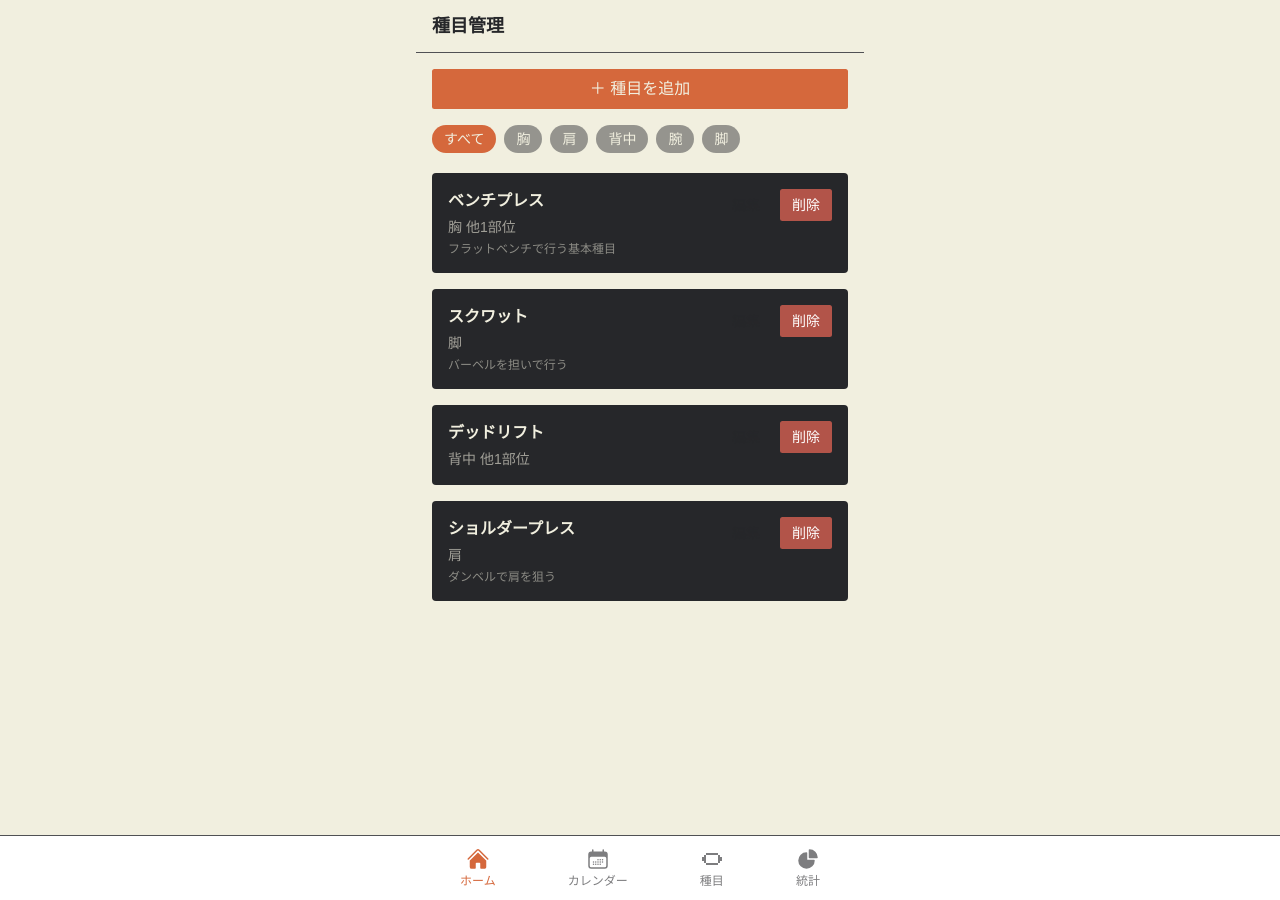
Test case: ExercisesPage › 「種目を追加」で新規フォームを開く
Expected: the text "ベンチプレス" is shown, x1=448 y1=192 x2=544 y2=209
Click the button "＋ 種目を追加": (640, 89) x1=432 y1=69 x2=848 y2=109
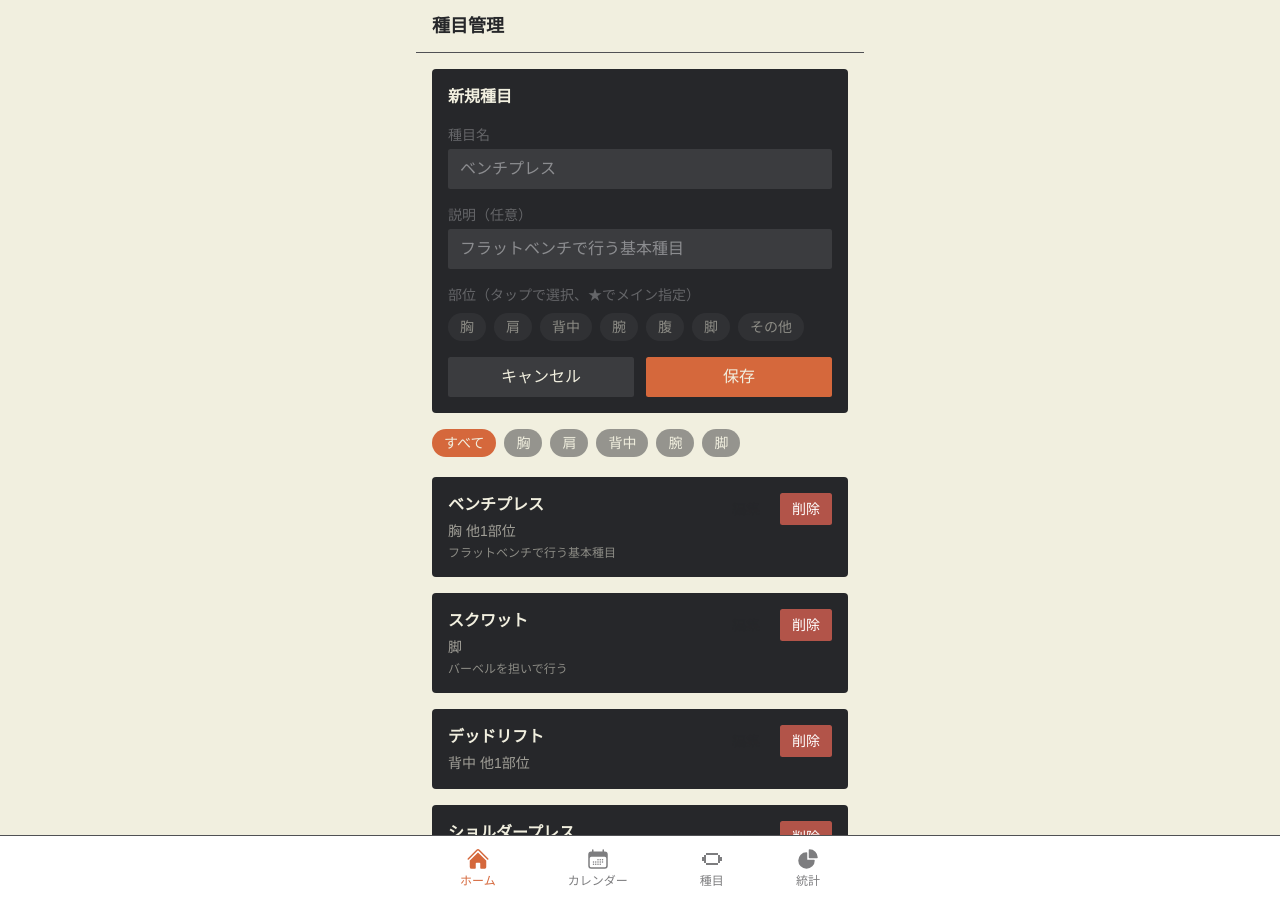
Expected: the heading "新規種目" is shown, x1=448 y1=88 x2=512 y2=105
Expected: the field labelled "種目名" is shown, x1=448 y1=149 x2=832 y2=189
